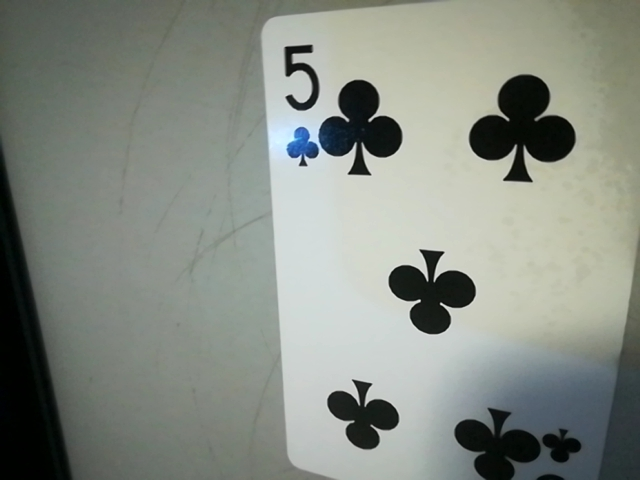mh 5: (267, 36, 326, 173)
